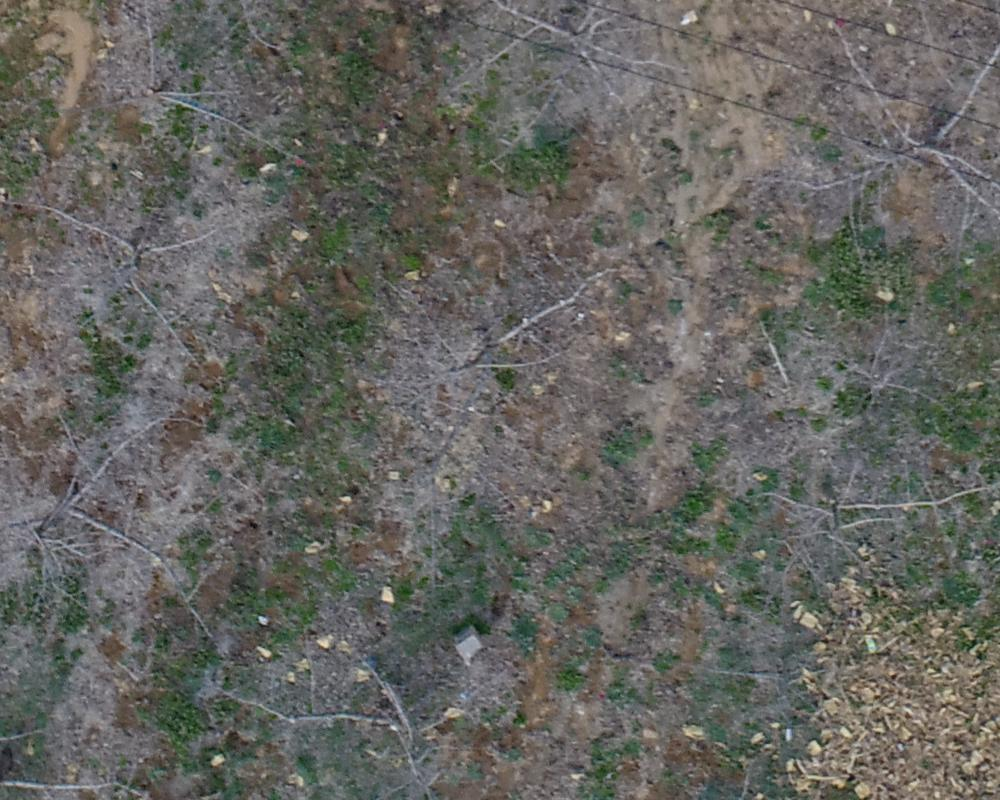apple: (760, 10, 990, 270), (13, 176, 243, 401), (364, 10, 697, 157), (372, 265, 608, 470), (738, 423, 990, 612), (232, 623, 482, 790), (10, 417, 201, 621)
